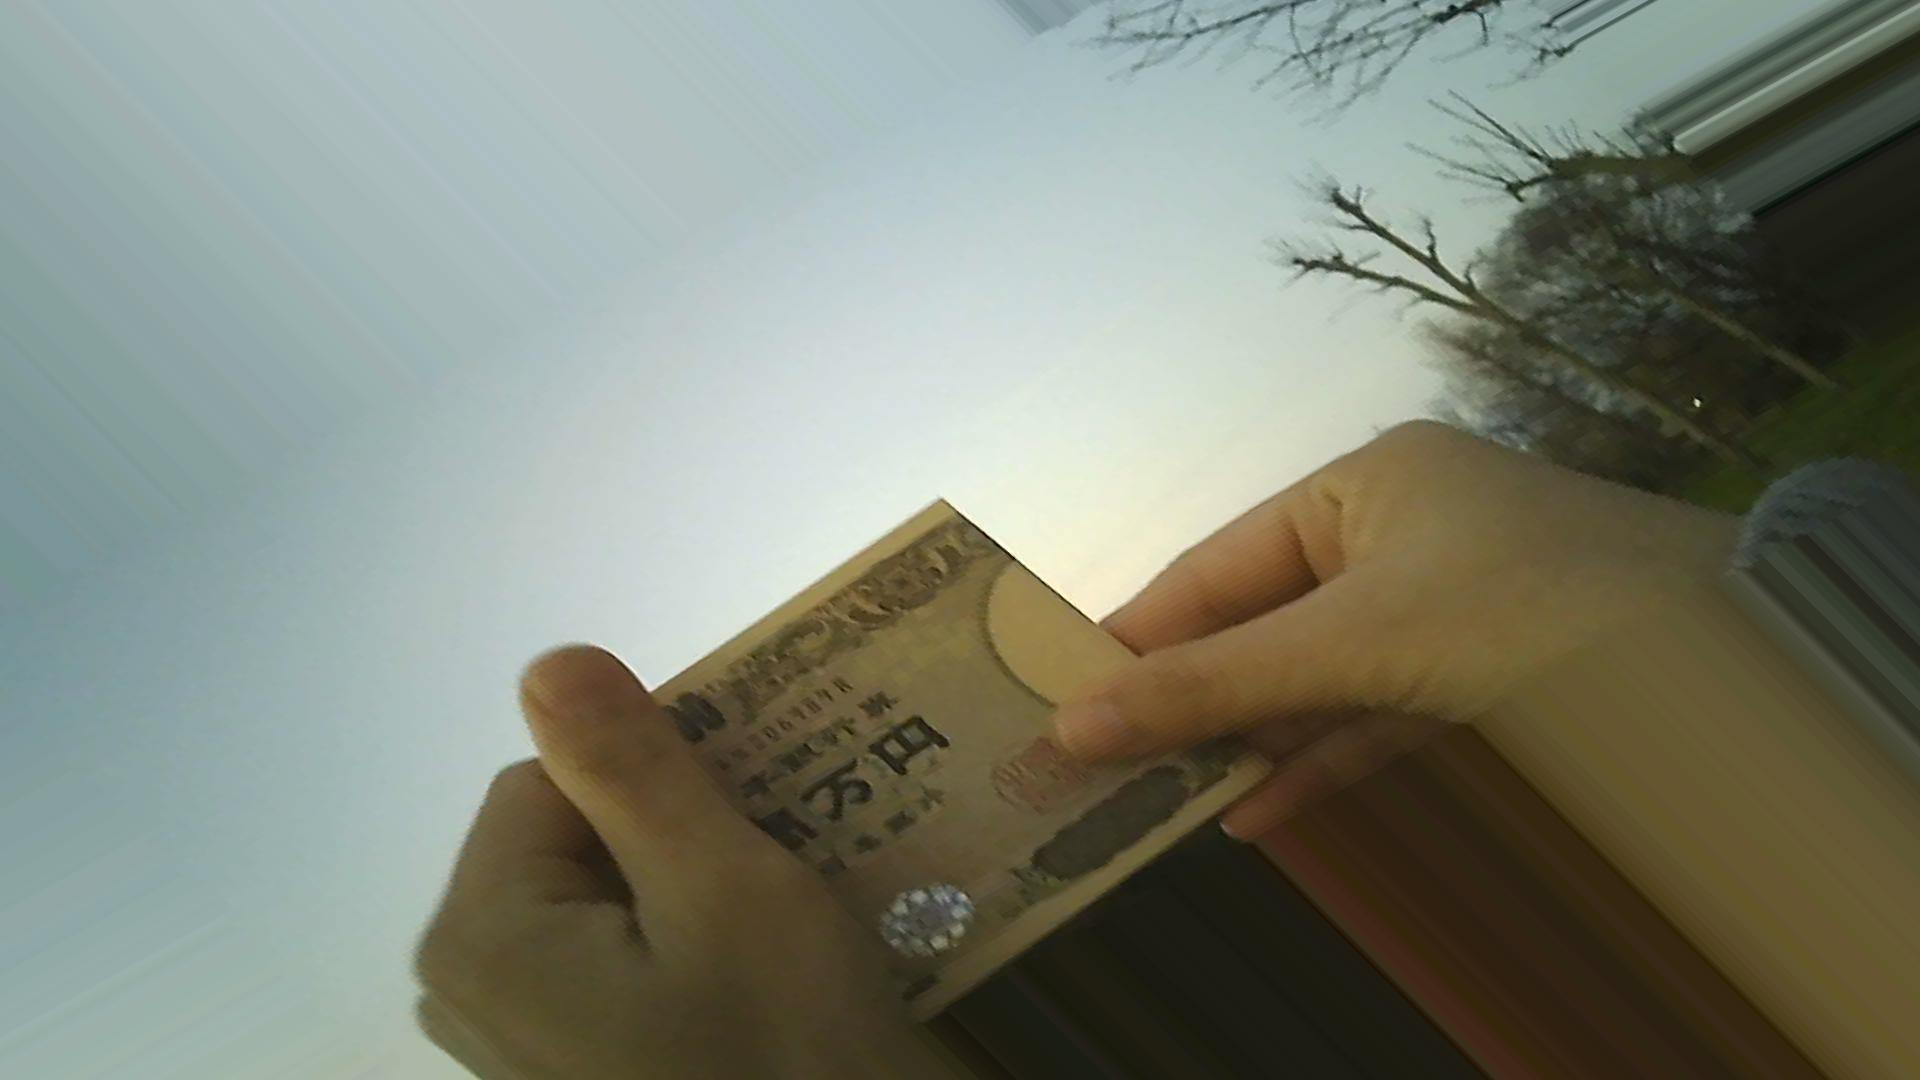10,000 Yen: (560, 469, 1279, 1065)
